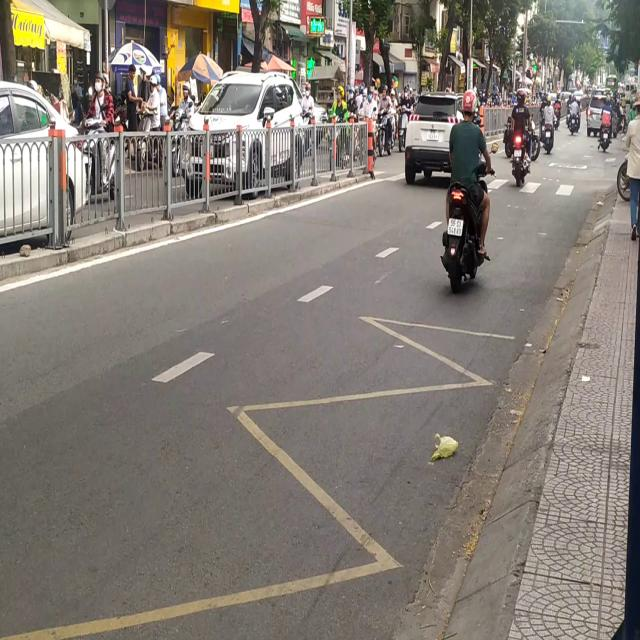bien_trang: (447, 213, 464, 240), (425, 125, 440, 142)
